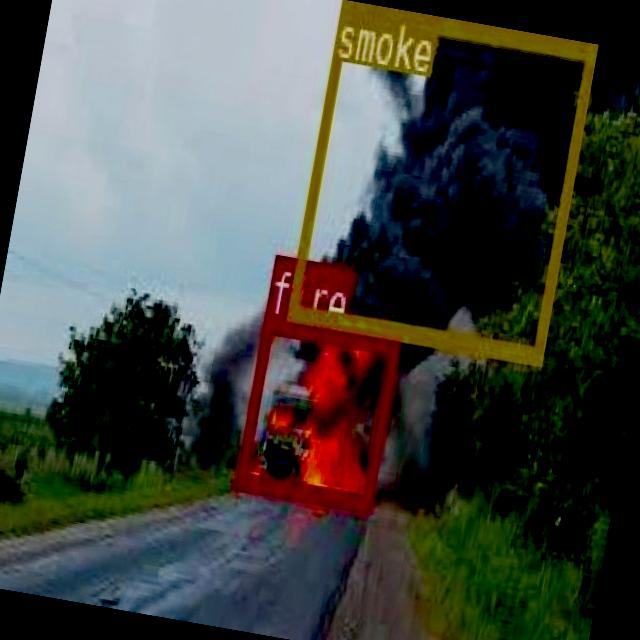fire: (234, 311, 400, 509)
smoke: (284, 0, 595, 361)
